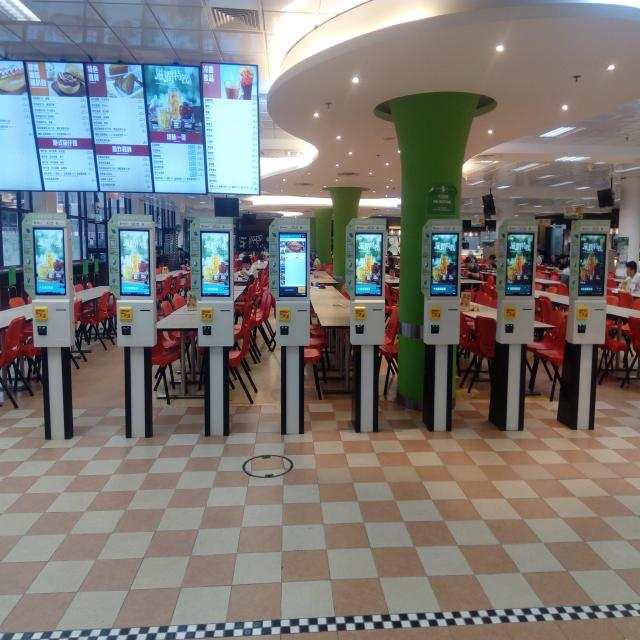orderKiosk: (30, 220, 72, 350), (115, 224, 155, 350), (194, 221, 234, 347), (426, 226, 462, 346), (274, 228, 310, 346), (352, 227, 386, 345), (573, 228, 606, 344), (502, 226, 534, 343)
